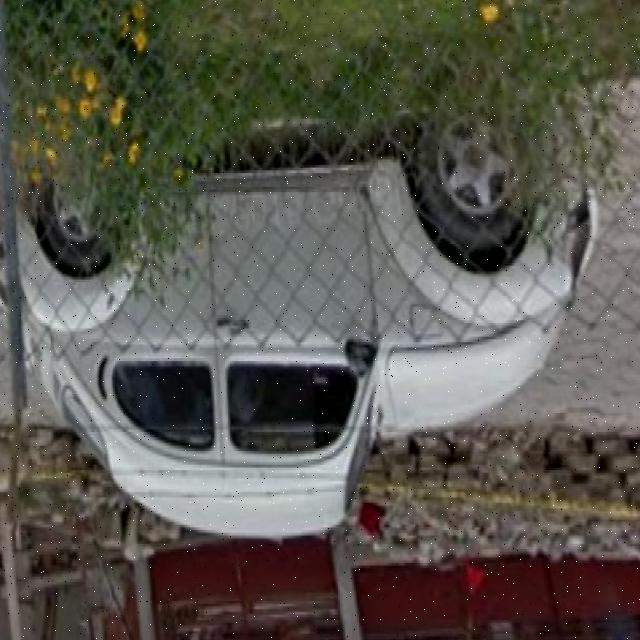car: (0, 106, 605, 502)
